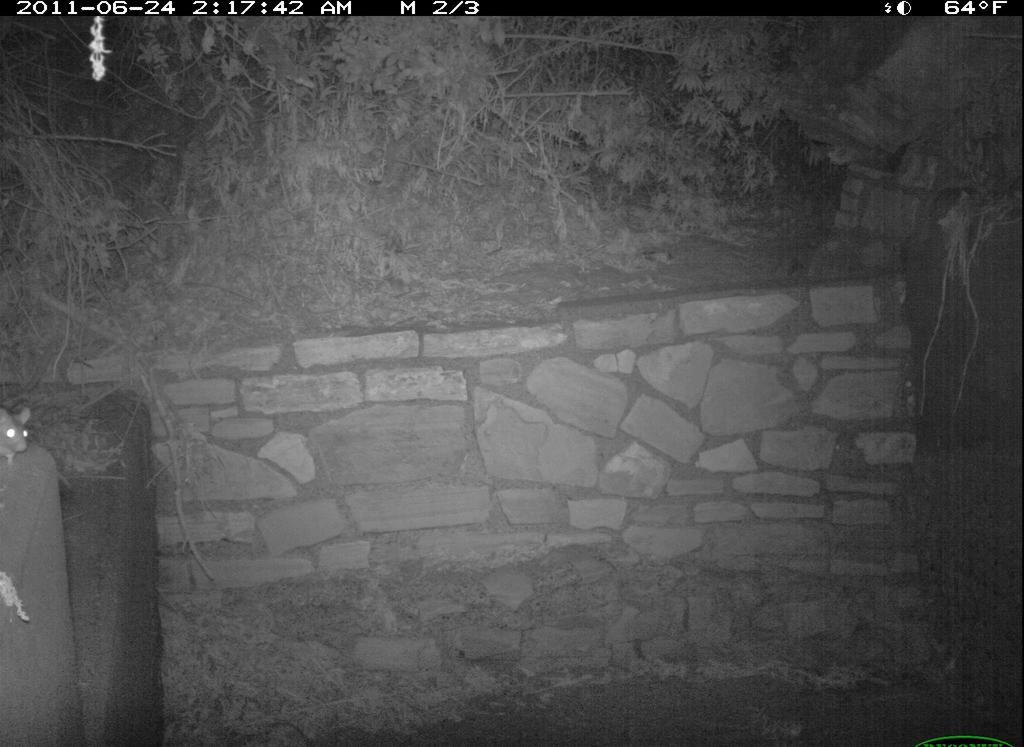rodent: (2, 391, 41, 470)
